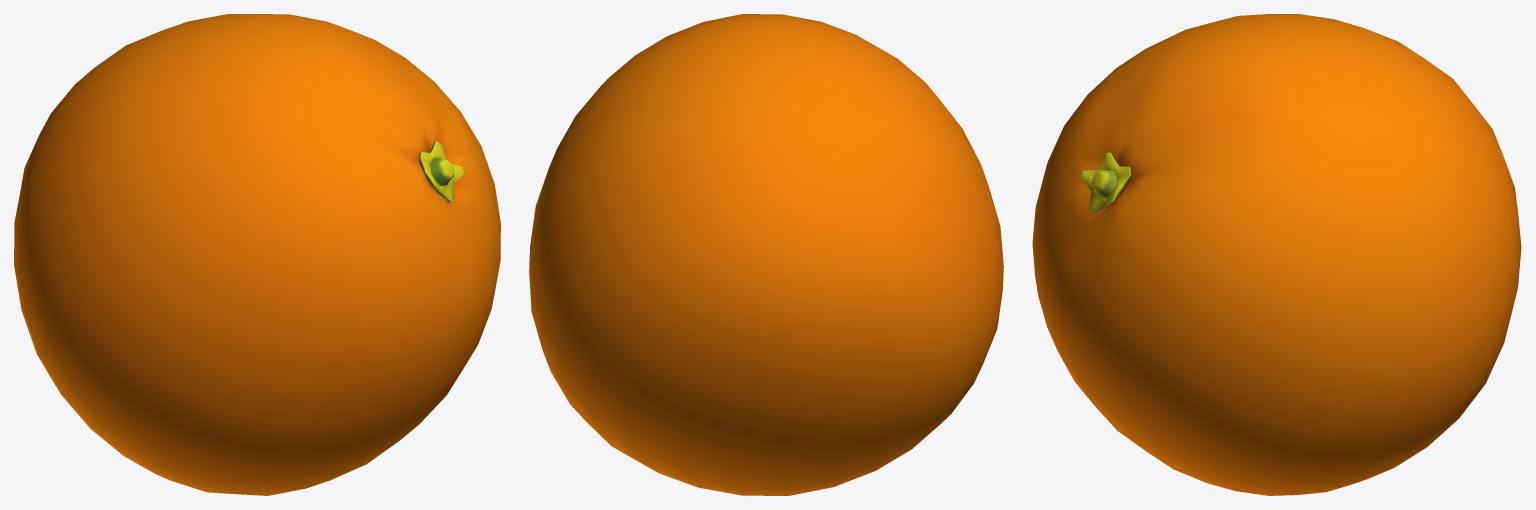
File: orange_final1_Draco.glb
The picture shows the model from 3 angles, left to right: view 1: azimuth 30°, elevation 25°; view 2: azimuth 150°, elevation 25°; view 3: azimuth 270°, elevation 25°; orthographic projection.
Visible parts, largest first — view 1: orange; view 2: orange; view 3: orange.
Boxes of the visible parts, bbox=[...] form: orange: bbox=[14, 14, 500, 495]; orange: bbox=[529, 14, 1003, 495]; orange: bbox=[1032, 14, 1521, 495].
Bounding box in the file's own units: 0.9639 × 0.9662 × 0.965.
Materials: 1 (1 with a texture image).
